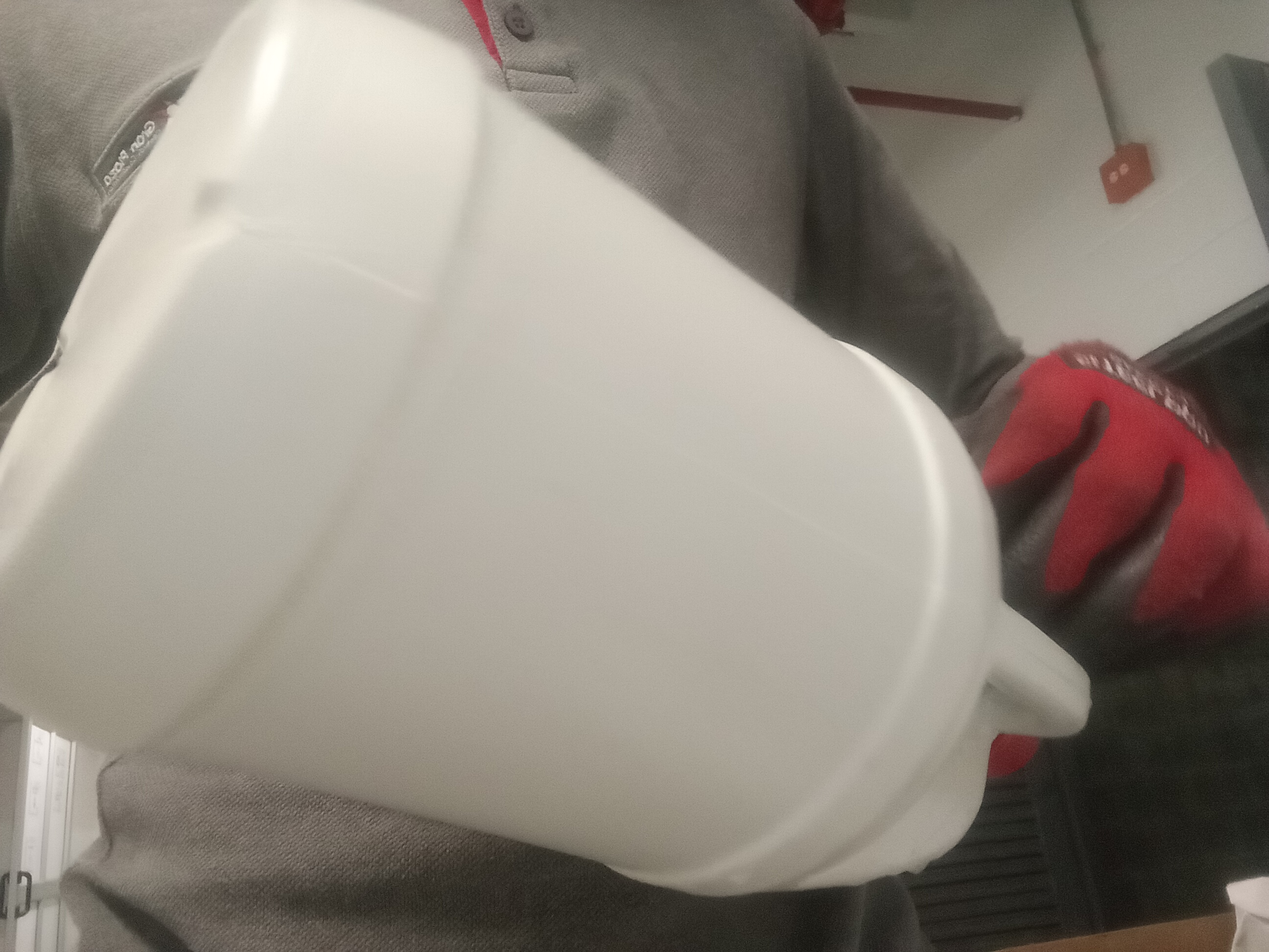Plastico: (0, 0, 1092, 899)
